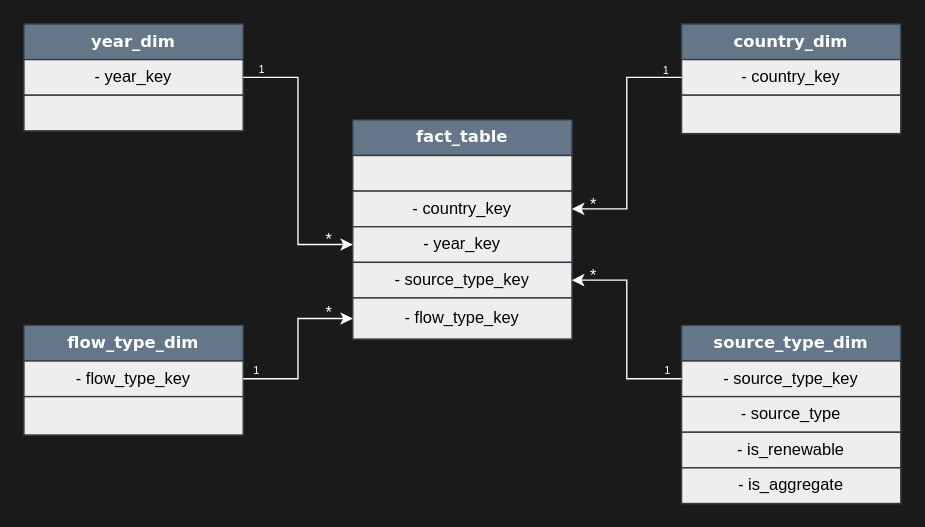
This 925x527 diagram has some shape labels left out. The centre of each missing label's shape, as x and y in pixels:
- country: the point at 790,114
- flow_type: the point at 133,415
- quantity_gwh: the point at 461,172
- year: the point at 133,112
